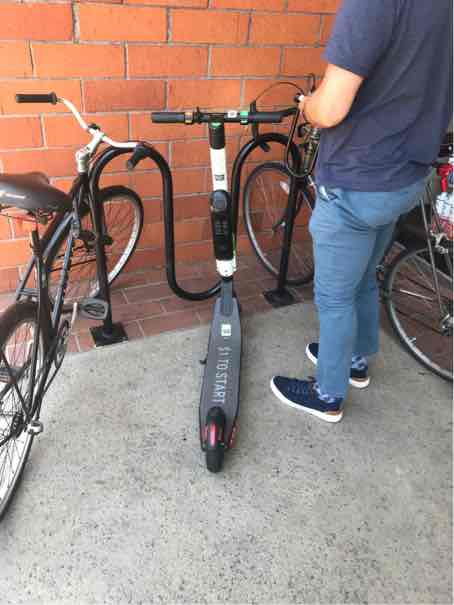scooter: (143, 97, 289, 487)
